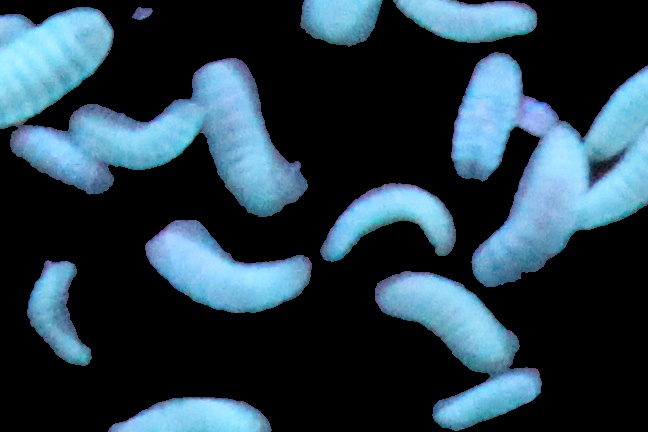larvae: (474, 120, 589, 286), (146, 229, 315, 315), (1, 1, 114, 128), (376, 274, 520, 368), (210, 68, 294, 216), (338, 188, 462, 272), (442, 56, 524, 176), (22, 256, 102, 376), (77, 103, 207, 165), (10, 126, 115, 192), (587, 53, 648, 159), (426, 376, 550, 428), (576, 151, 648, 233), (392, 1, 553, 37)
